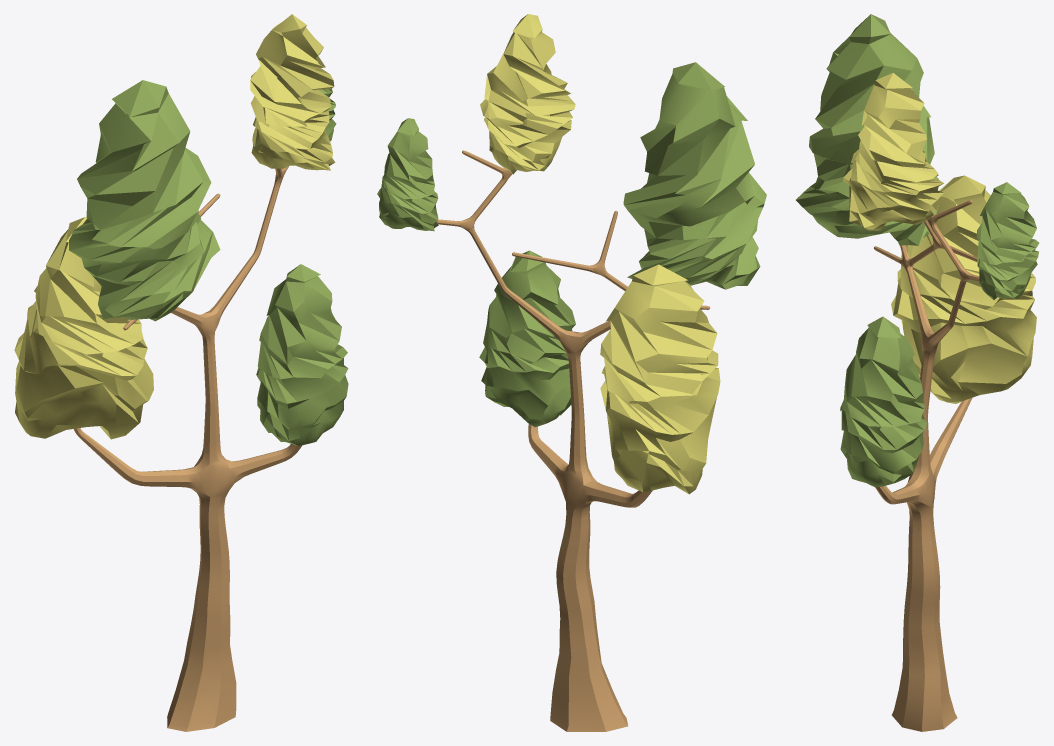
The model's file is tree.glb.
3 renders of one model, left to right at view 1: azimuth 30°, elevation 25°; view 2: azimuth 150°, elevation 25°; view 3: azimuth 270°, elevation 25°, orthographic. The views are drawn at different scales.
Parts seen in each view (by area): view 1: Tree.002; view 2: Tree.002; view 3: Tree.002.
Boxes of the visible parts, x1,y1,x2,y2 form: Tree.002: (14, 14, 348, 731); Tree.002: (377, 14, 766, 731); Tree.002: (796, 14, 1039, 731).
Size of the model in its own units: 4.47 by 9.19 by 2.99.
